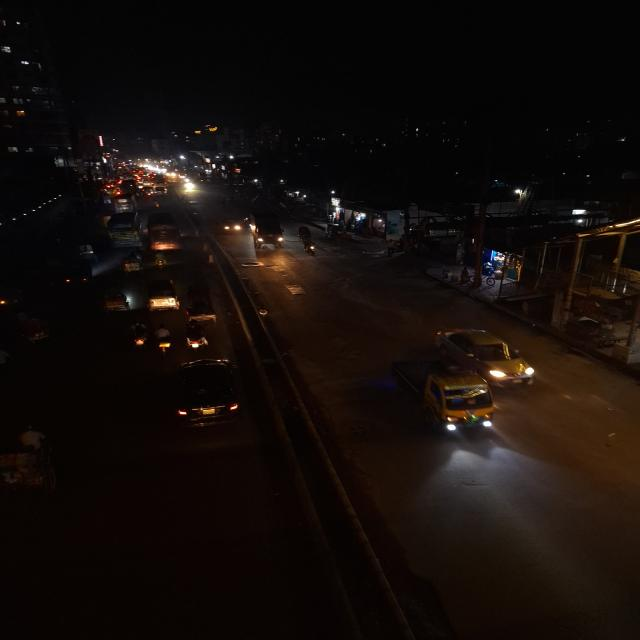bus: (102, 209, 143, 249), (146, 210, 184, 253)
car: (154, 354, 245, 430), (431, 325, 538, 386)
cng: (142, 276, 180, 314), (72, 242, 100, 264), (218, 212, 244, 235), (120, 252, 144, 276), (114, 195, 134, 212)
motorcycle: (182, 316, 213, 354), (126, 321, 152, 353), (153, 323, 175, 358), (152, 198, 162, 208)
pickup_van: (386, 358, 501, 436)
rickshaw: (0, 422, 61, 506), (11, 310, 56, 348), (94, 283, 134, 318), (120, 253, 144, 276), (295, 224, 313, 246)
truck: (245, 210, 287, 250)
